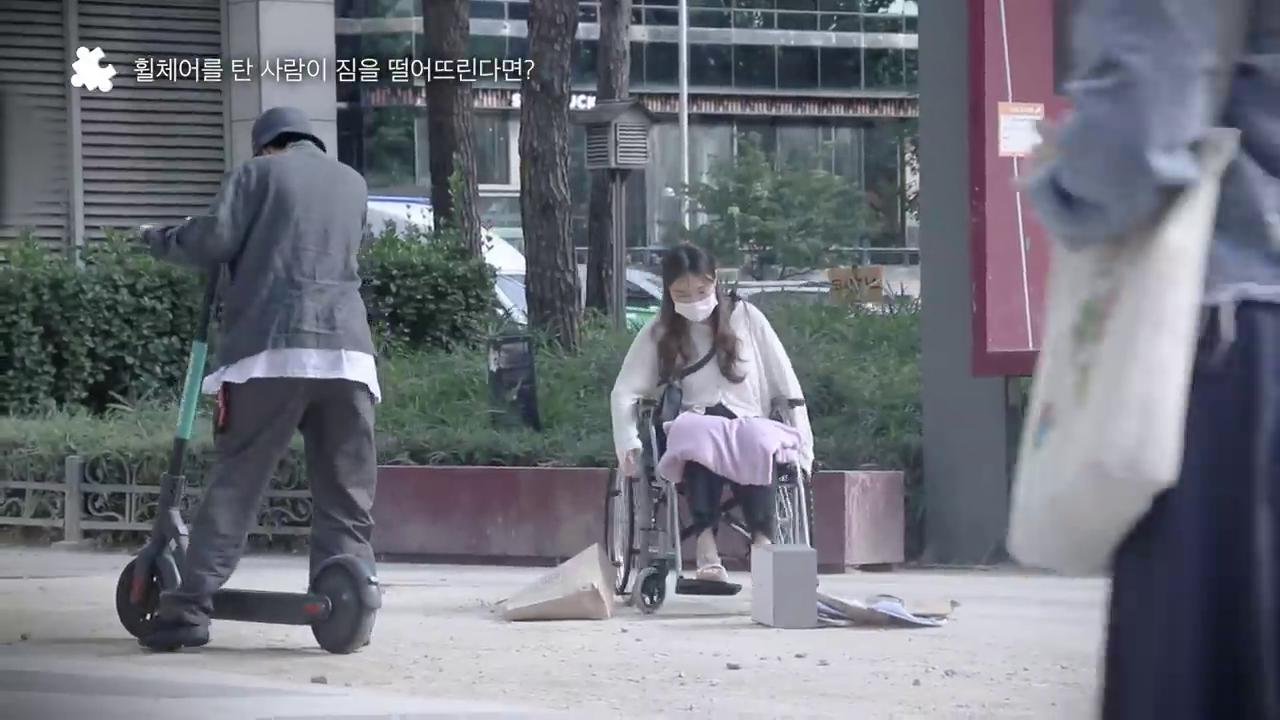wheelchair: (603, 246, 817, 613)
